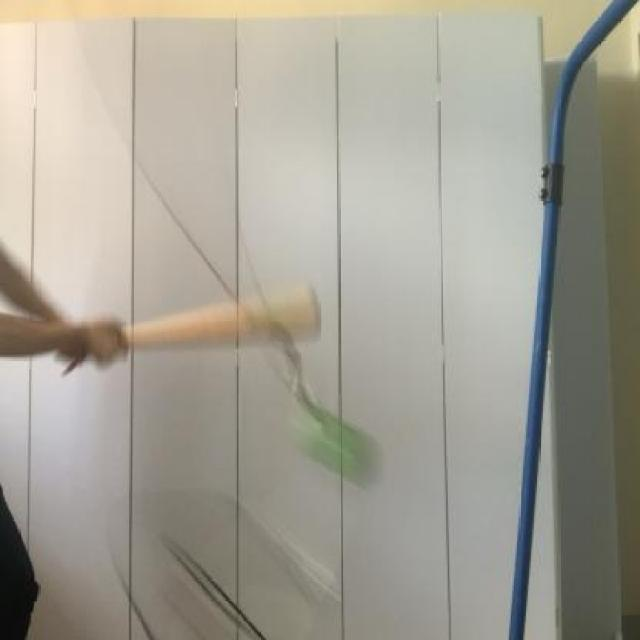baseball: (288, 390, 392, 488)
